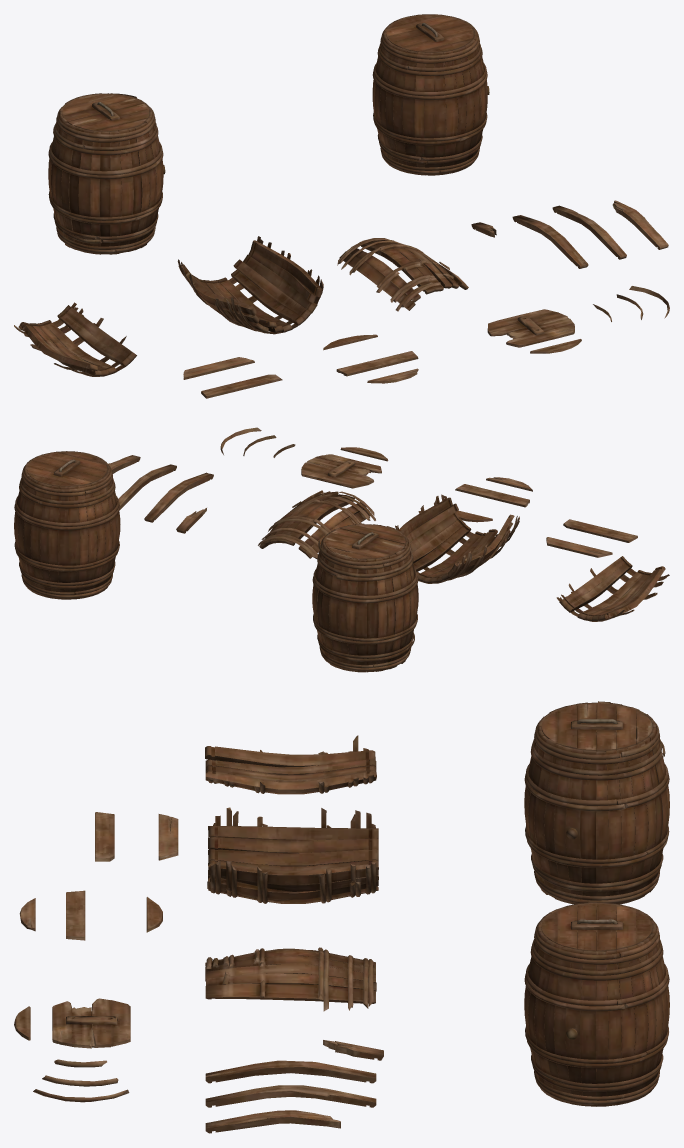
File: wooden_barrels_01.glb
The picture shows the model from 3 angles, top to bottom: view 1: azimuth 30°, elevation 25°; view 2: azimuth 150°, elevation 25°; view 3: azimuth 270°, elevation 25°; orthographic projection. The views are drawn at different scales.
Parts seen in each view (by area): view 1: wooden_barrels_01_piece01, wooden_barrels_01_barrel02, wooden_barrels_01_barrel01; view 2: wooden_barrels_01_piece01, wooden_barrels_01_barrel02, wooden_barrels_01_barrel01; view 3: wooden_barrels_01_piece01, wooden_barrels_01_barrel01, wooden_barrels_01_barrel02.
Part boxes in pixels (box(x1,y1,x2,y2)): wooden_barrels_01_piece01: box(14, 200, 669, 398); wooden_barrels_01_barrel02: box(48, 93, 165, 254); wooden_barrels_01_barrel01: box(372, 14, 489, 175); wooden_barrels_01_piece01: box(108, 427, 669, 621); wooden_barrels_01_barrel02: box(312, 523, 418, 672); wooden_barrels_01_barrel01: box(14, 451, 120, 599); wooden_barrels_01_piece01: box(14, 735, 383, 1133); wooden_barrels_01_barrel01: box(524, 902, 669, 1106); wooden_barrels_01_barrel02: box(524, 701, 669, 904).
Bounding box in the file's own units: 4.44 × 0.9568 × 3.34.
Materials: 3 (3 with a texture image).
